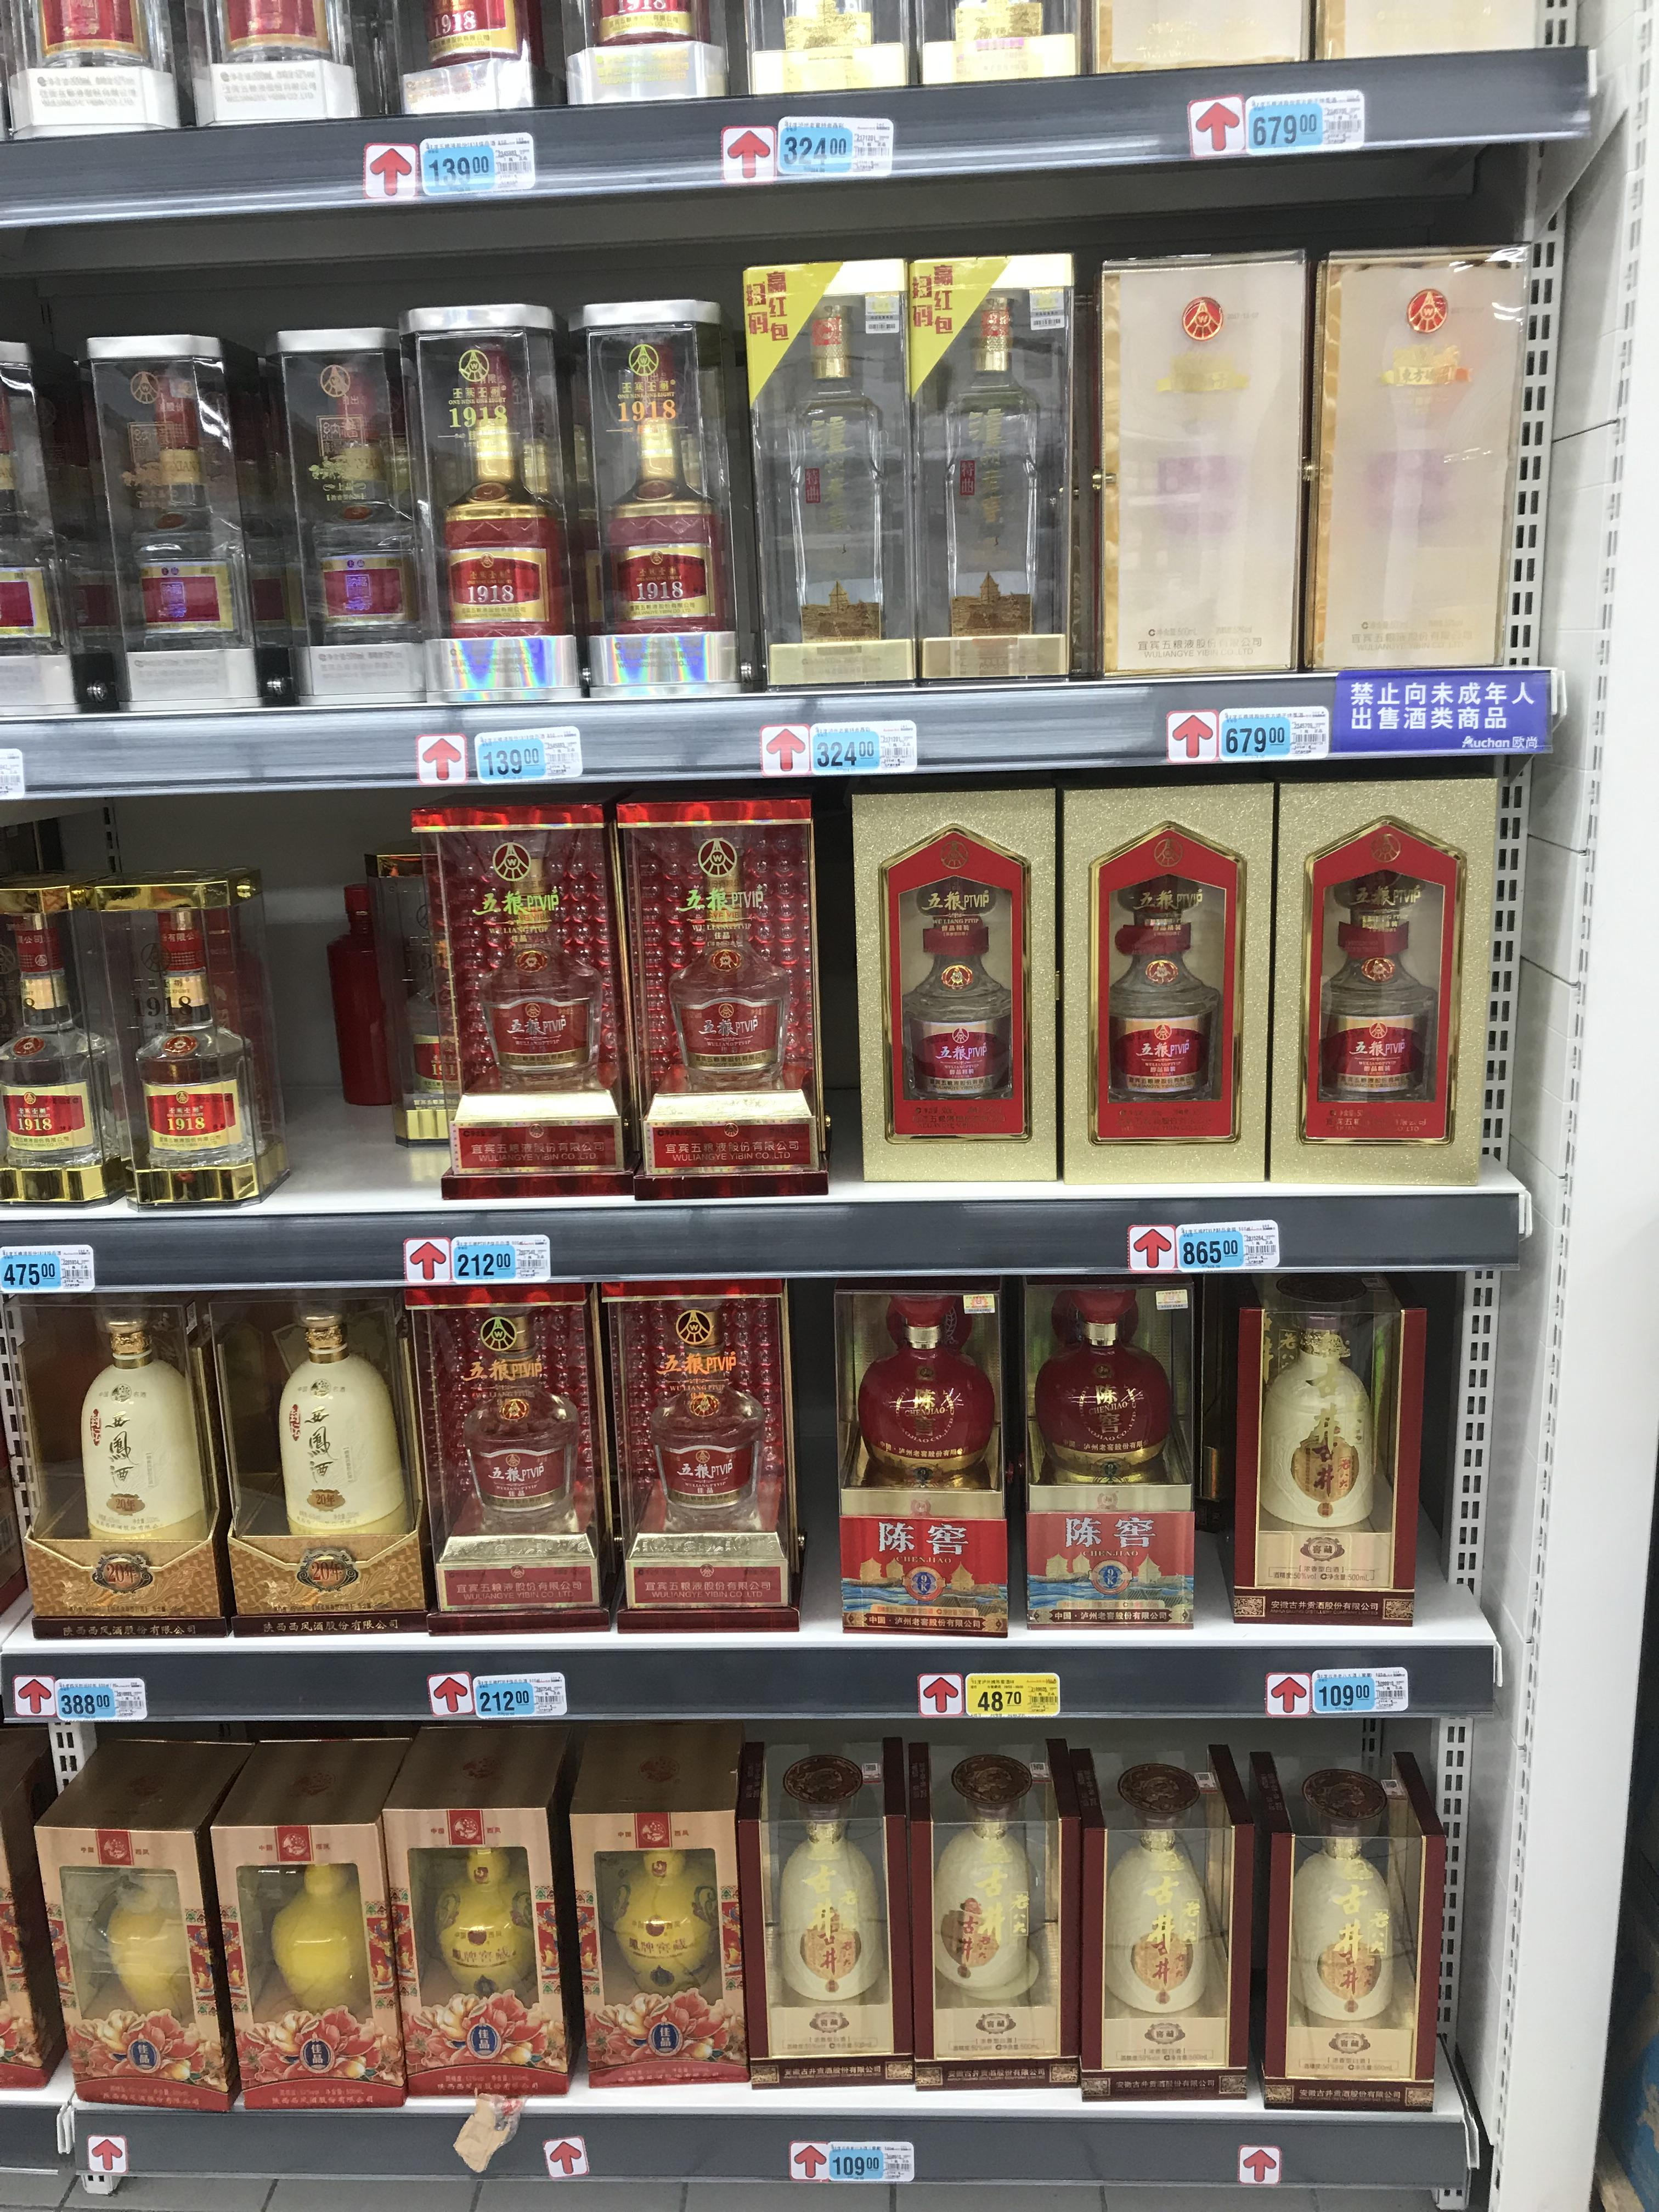bag: (1084, 242, 1314, 690), (31, 1735, 254, 2113), (605, 1280, 800, 1635), (418, 1284, 612, 1637)
bottle: (843, 780, 1065, 1188), (1317, 239, 1521, 679), (1274, 770, 1488, 1186), (1063, 779, 1272, 1186), (5, 1282, 234, 1639), (207, 1301, 436, 1641), (904, 247, 1079, 688), (1220, 1271, 1425, 1634), (389, 1723, 584, 2104), (1249, 1749, 1450, 2113), (565, 301, 744, 702), (748, 260, 913, 693), (89, 869, 295, 1212), (830, 1278, 1007, 1637), (1080, 1742, 1256, 2102), (1016, 1277, 1194, 1630), (904, 1737, 1079, 2090), (742, 1737, 915, 2088), (2, 873, 127, 1211), (0, 338, 108, 719), (371, 0, 545, 113), (744, 3, 911, 101)
box: (406, 792, 631, 1200), (613, 787, 819, 1200)
bucket: (5, 3, 183, 134), (192, 2, 359, 124)
jar: (408, 305, 591, 705), (87, 336, 272, 714), (272, 331, 427, 712), (563, 0, 730, 105), (918, 0, 1084, 89)
others: (561, 1719, 751, 2094), (227, 1735, 413, 2109)
